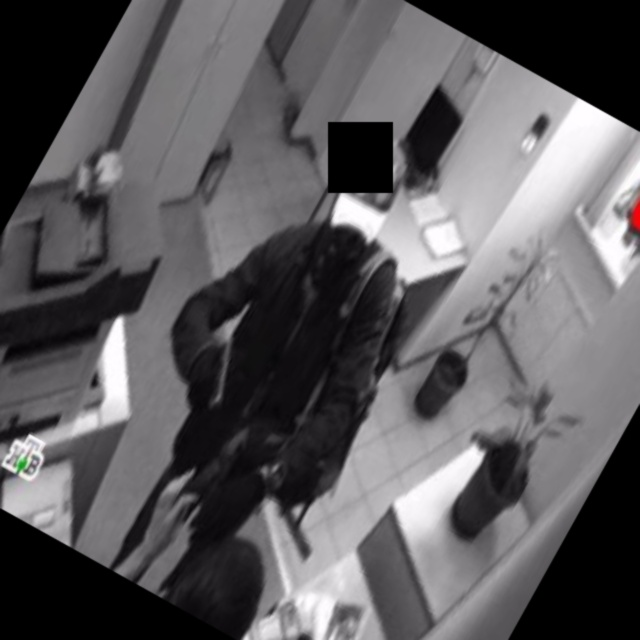gun: (180, 334, 254, 423)
